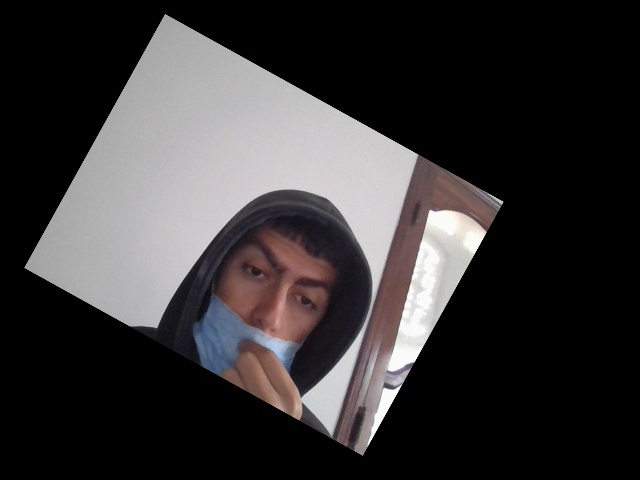mask_weared_incorrect: (190, 210, 340, 406)
